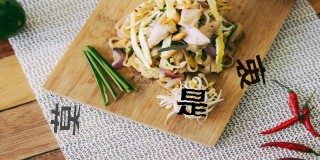一: (158, 45, 188, 53)
是: (177, 88, 208, 117)
莫: (48, 102, 82, 135)
衷: (235, 54, 267, 89)
